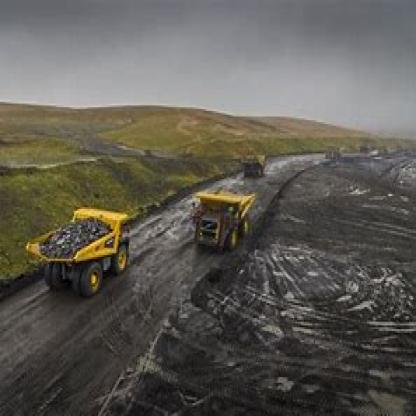dump_truck: (25, 200, 133, 298), (192, 179, 260, 257)
